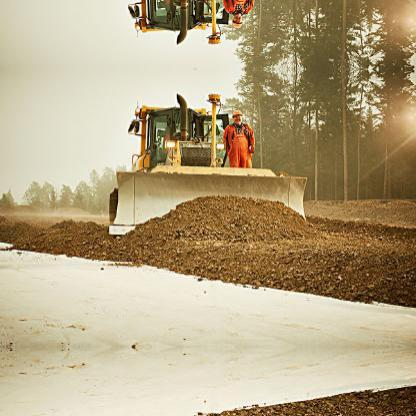Helmet: (232, 10, 247, 30), (230, 110, 247, 127)
